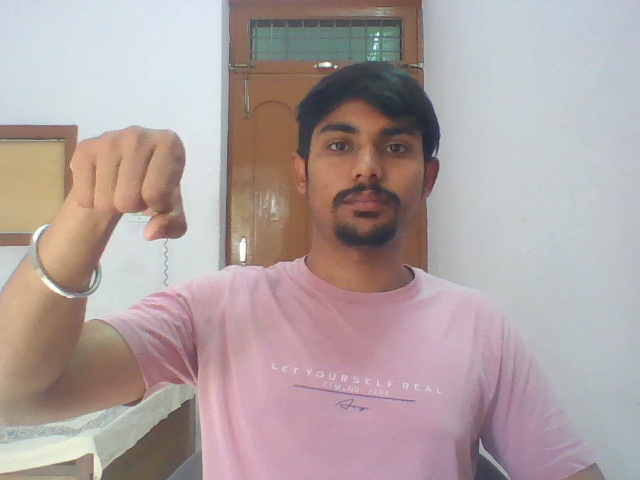Yes: (59, 121, 199, 241)
